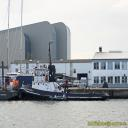tugboat: (19, 35, 112, 104)
